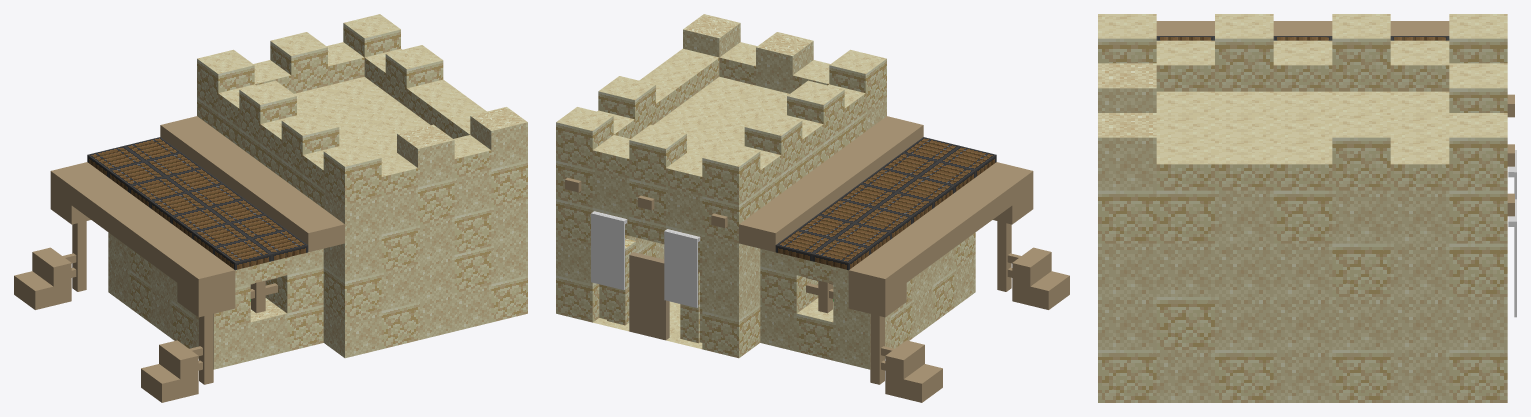
The model's file is DesertHouse2.fbx.
3 views of the same model, side by side, from view 1: azimuth 30°, elevation 25°; view 2: azimuth 150°, elevation 25°; view 3: azimuth 270°, elevation 25° (orthographic). The views are drawn at different scales.
Parts seen in each view (by area): view 1: DesertHouse2; view 2: DesertHouse2; view 3: DesertHouse2.
Boxes of the visible parts, bbox=[...] form: DesertHouse2: bbox=[14, 14, 527, 402]; DesertHouse2: bbox=[556, 14, 1069, 402]; DesertHouse2: bbox=[1098, 14, 1516, 402].
Bounding box in the file's own units: 1000 × 500 × 716.
